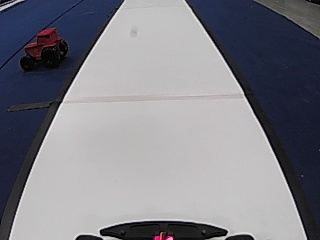Tracktor: (21, 24, 70, 72)
